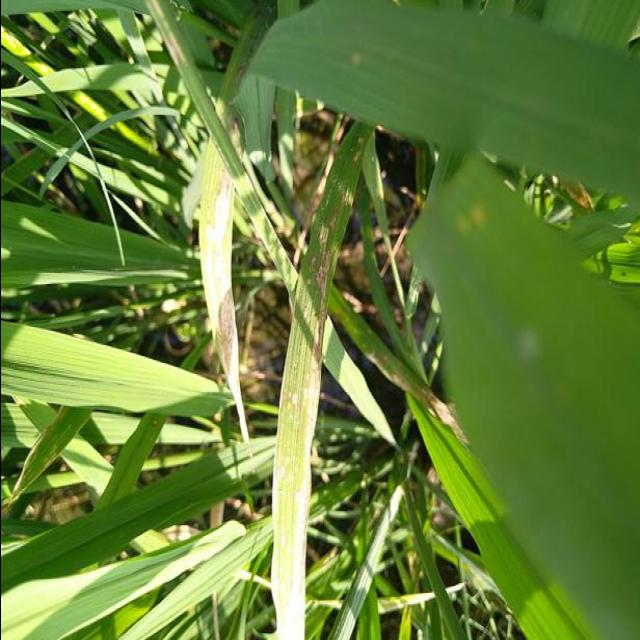Leaf Streak: (270, 137, 365, 640), (327, 287, 469, 445), (194, 137, 249, 445), (220, 0, 277, 139)
